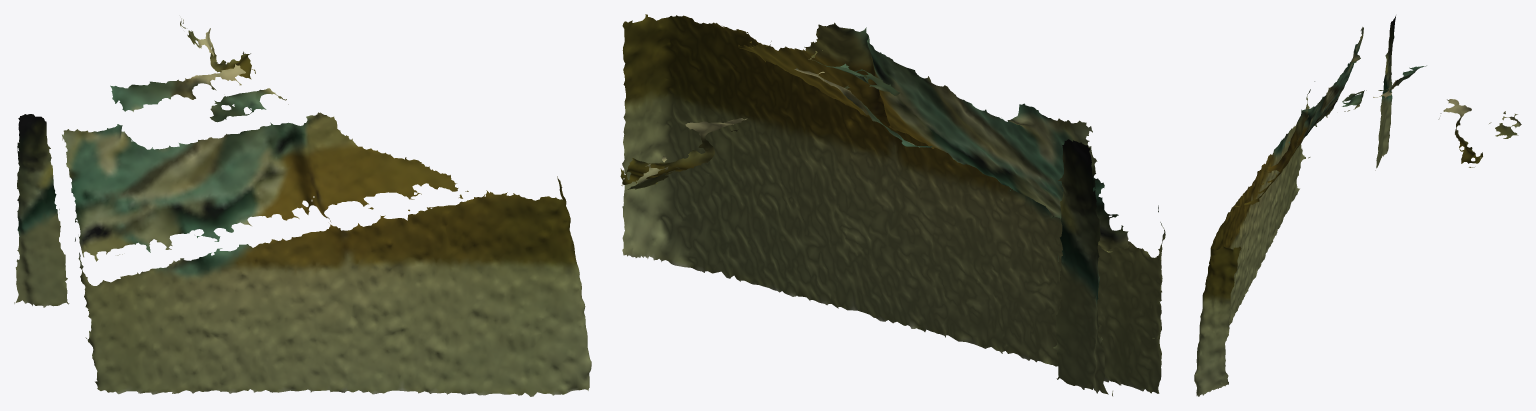
The model's file is color_model_f010_20260204_220913.obj.
3 renders of one model, left to right at view 1: azimuth 30°, elevation 25°; view 2: azimuth 150°, elevation 25°; view 3: azimuth 270°, elevation 25°, orthographic. The views are drawn at different scales.
Size of the model in its own units: 1.85 by 1.11 by 1.5.
